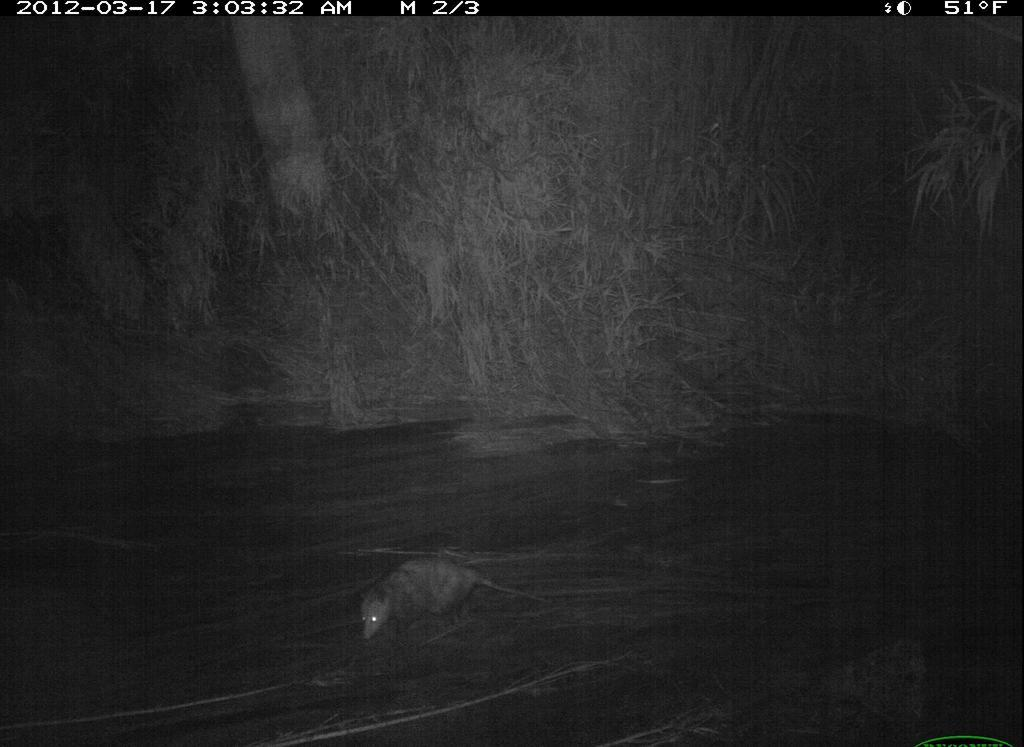opossum: (353, 541, 557, 653)
